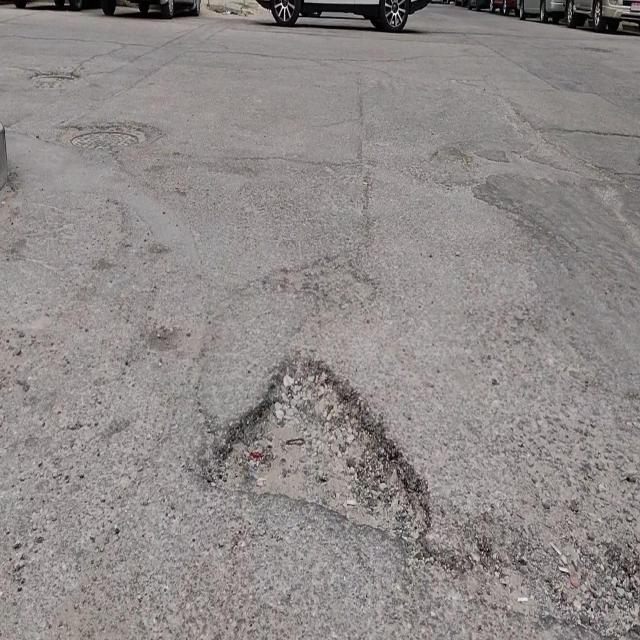Potholes: (199, 359, 433, 570)
